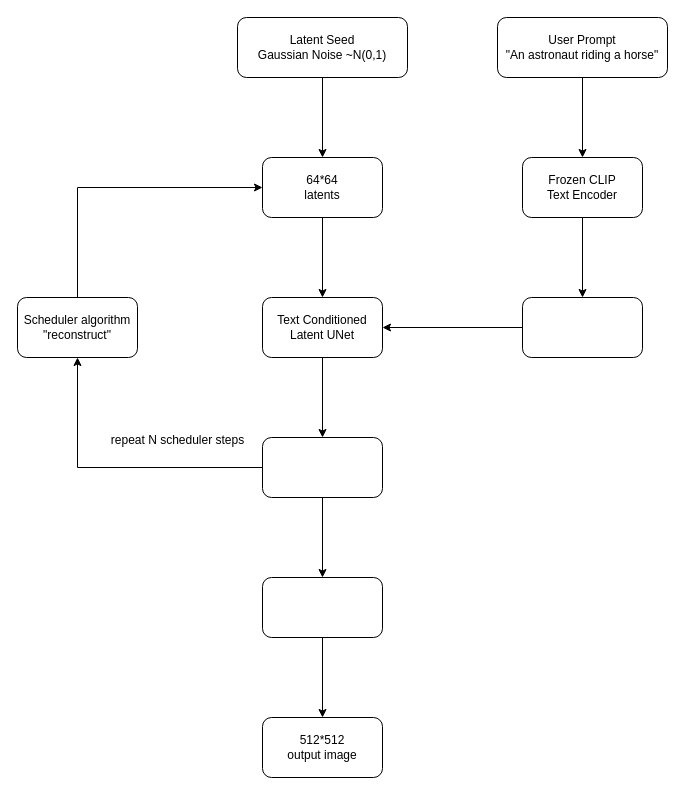
Image size: 685x795. Some labels were removed from this diagram. Here are the shapes that lost their labels. From the top down, the centre of each, then its label:
At [582,327]: "77*768 text embeddings".
At [322,467]: "64*64 Conditional images".
At [322,607]: "Variational Autoencoder Decoder".
